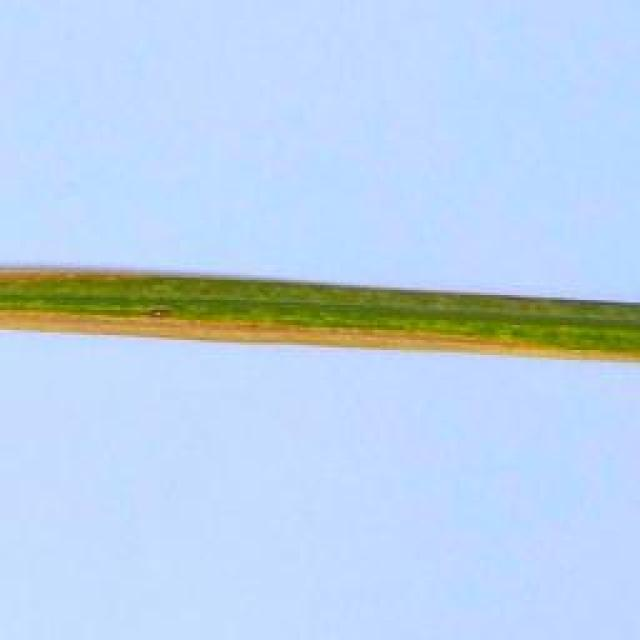Unhealthy: (0, 308, 640, 363), (0, 265, 161, 282)
